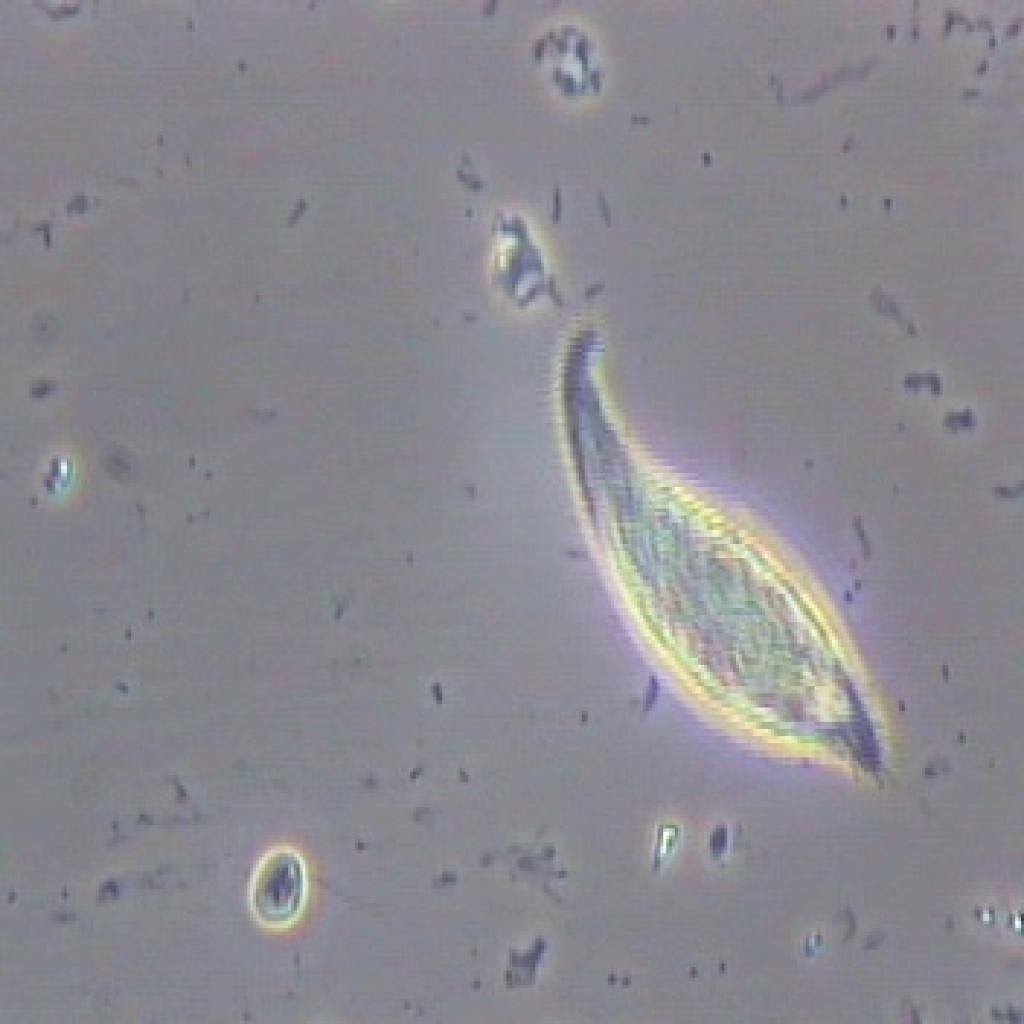Pristina: (532, 310, 948, 828)
